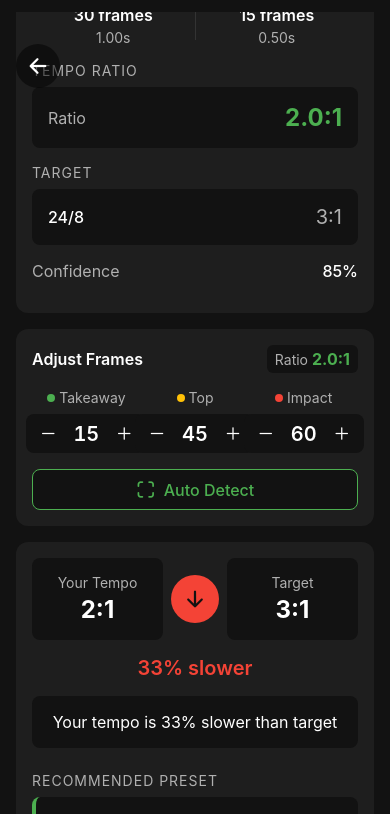
AnalysisScreen › manual frame adjustment › should update analysis when frame is adjusted
This screenshot has width=390, height=814.
(page scrolled)
Expected: the element with test id "frame-adjuster" is shown, [16,329,374,526]
// Adjust takeaway frame
Click the button with test id "takeaway-increment" at (124, 434), box [106,414,142,453]
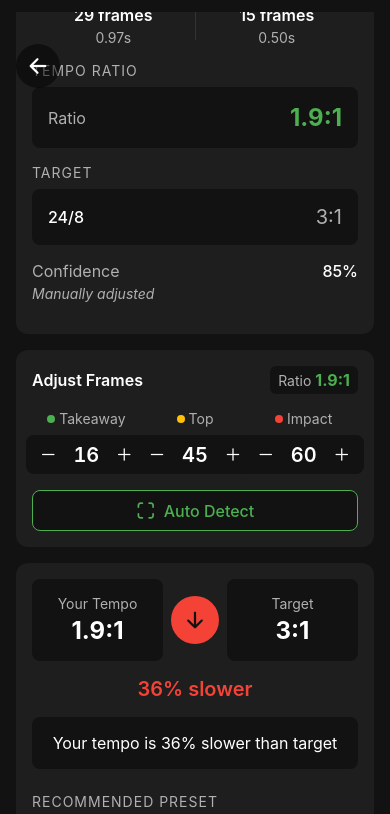
Expected: the text "16" is shown, [73,442,99,466]
